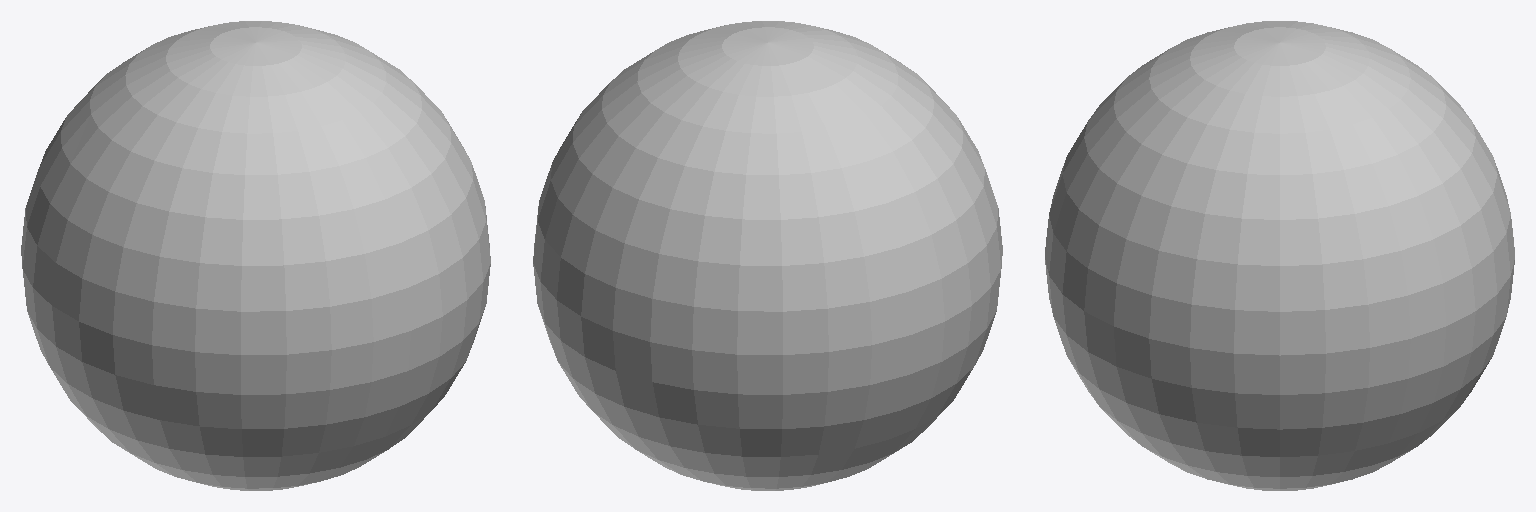
Rendered from ball.obj.
3 views of the same model, side by side, from view 1: azimuth 30°, elevation 25°; view 2: azimuth 150°, elevation 25°; view 3: azimuth 270°, elevation 25° (orthographic).
Parts seen in each view (by area): view 1: Sphere; view 2: Sphere; view 3: Sphere.
Boxes of the visible parts, <box> form: Sphere: <box>21,21,490,490</box>; Sphere: <box>533,21,1002,490</box>; Sphere: <box>1045,21,1514,490</box>.
Size of the model in its own units: 0.6 by 0.6 by 0.6.